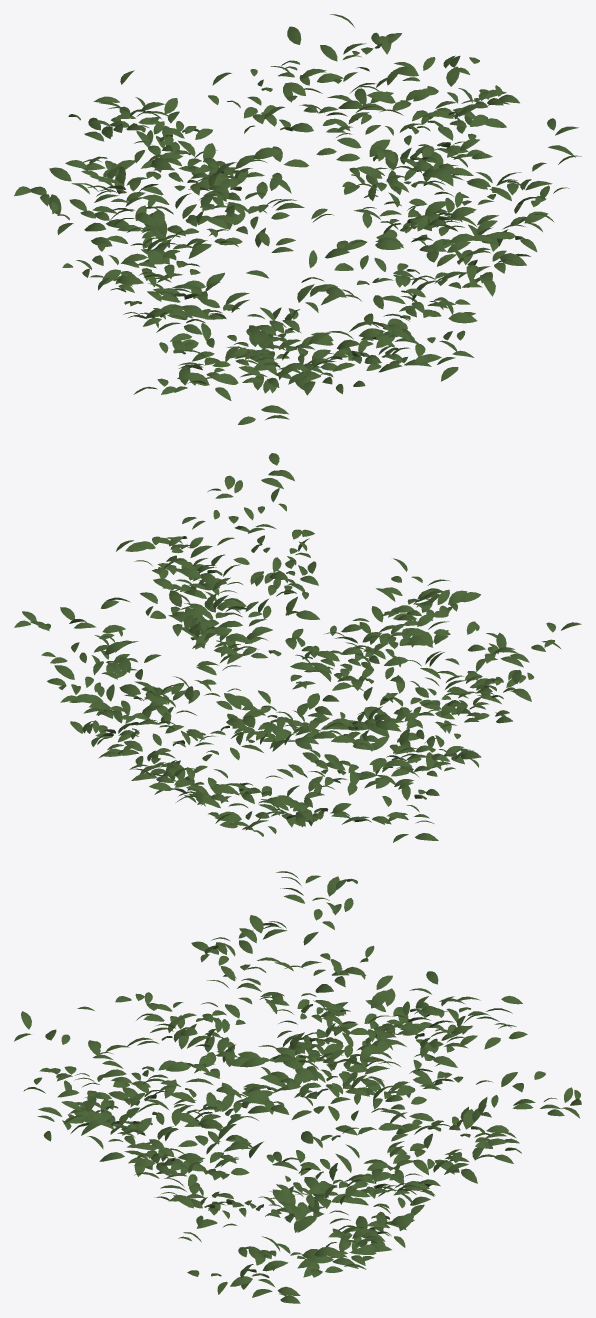
Rendered from s99-tree-foliage_green.glb.
3 renders of one model, top to bottom at view 1: azimuth 30°, elevation 25°; view 2: azimuth 150°, elevation 25°; view 3: azimuth 270°, elevation 25°, orthographic. The views are drawn at different scales.
Visible parts, largest first — view 1: s97_source_foliage_green_mesh_model:0; view 2: s97_source_foliage_green_mesh_model:0; view 3: s97_source_foliage_green_mesh_model:0.
Part boxes in pixels (<box>): s97_source_foliage_green_mesh_model:0: <box>14,14,581,424</box>; s97_source_foliage_green_mesh_model:0: <box>14,453,581,842</box>; s97_source_foliage_green_mesh_model:0: <box>14,871,581,1303</box>.
Bounding box in the file's own units: 3.63 × 2.2 × 3.68.
Materials: 1 (1 with a texture image).
